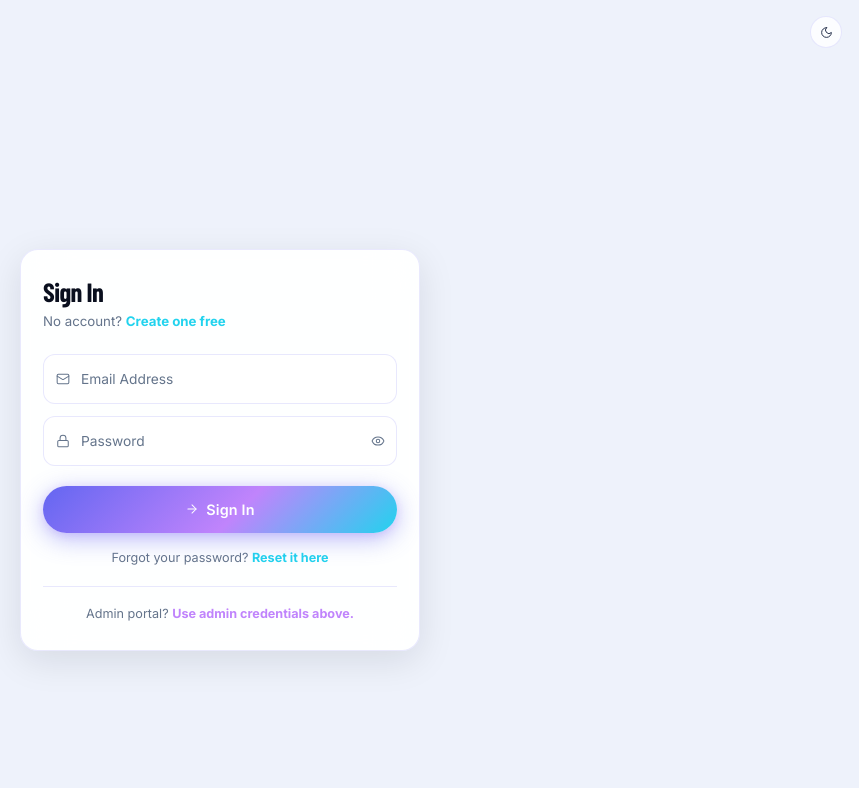
LoginForm › shows pending approval panel on 403 response
Type "pending@t.com" into the field with id "login-email" at (220, 378), box [43,354,397,404]
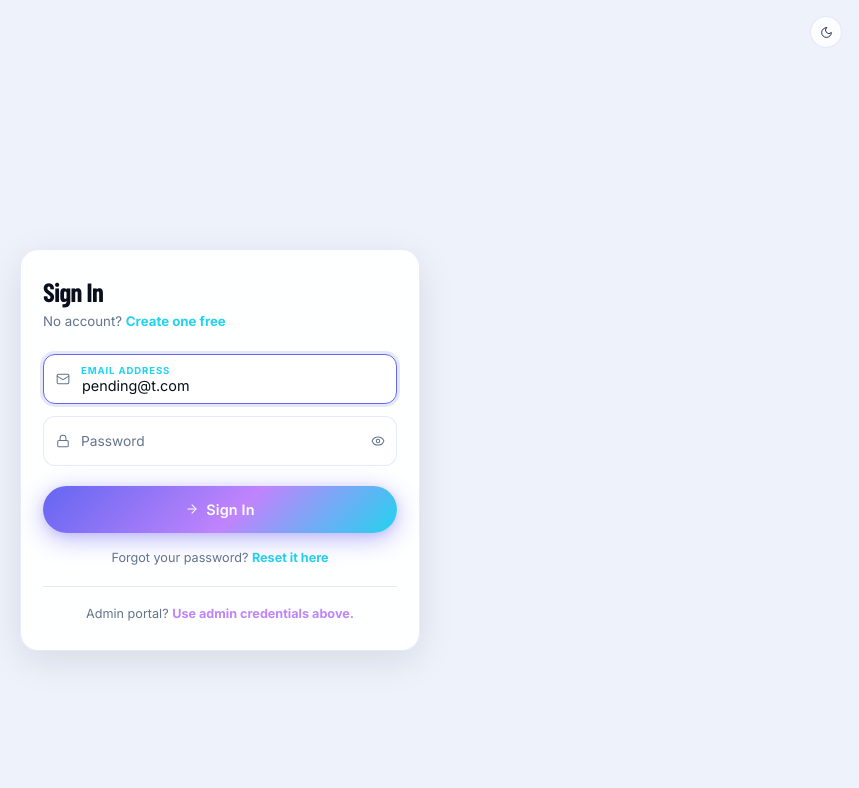
Type "pass1234" into the password field with id "login-pw" at (220, 440), box [43,416,397,466]
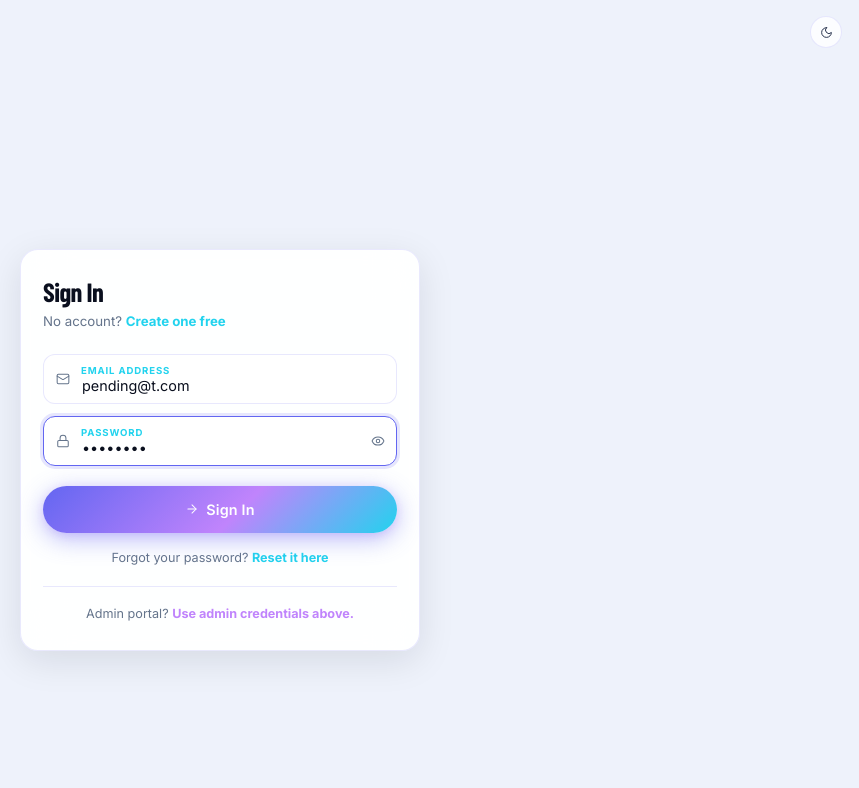
Click the button "Sign In" at (220, 509), box [43,486,397,533]
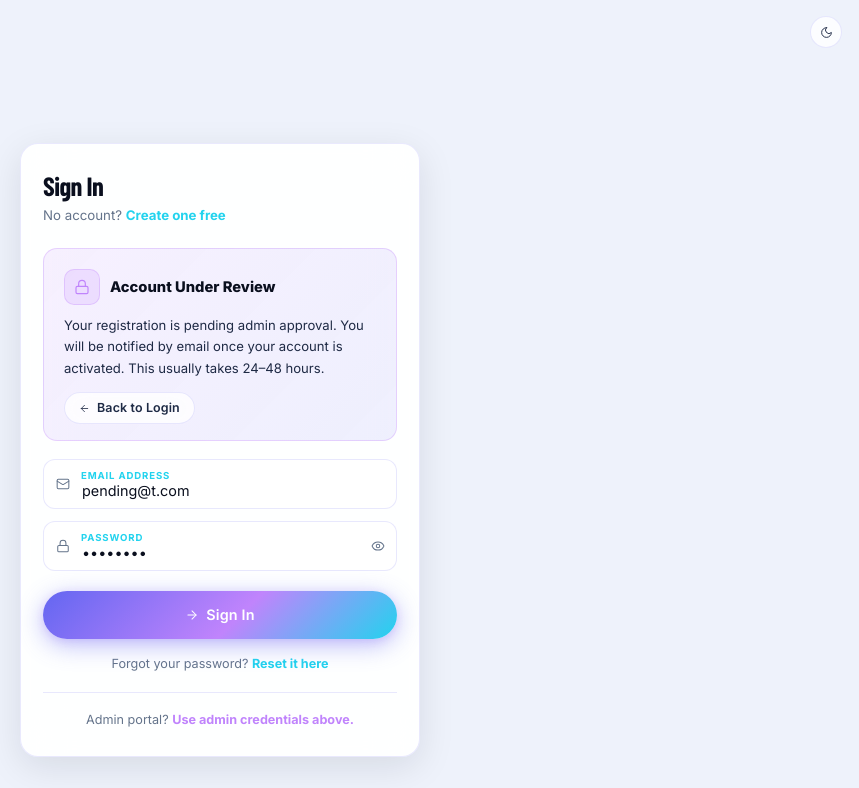
Expected: the text "Account Under Review" is shown, [110,276,276,298]
Expected: the text "pending admin approval" is shown, [64,317,364,376]
